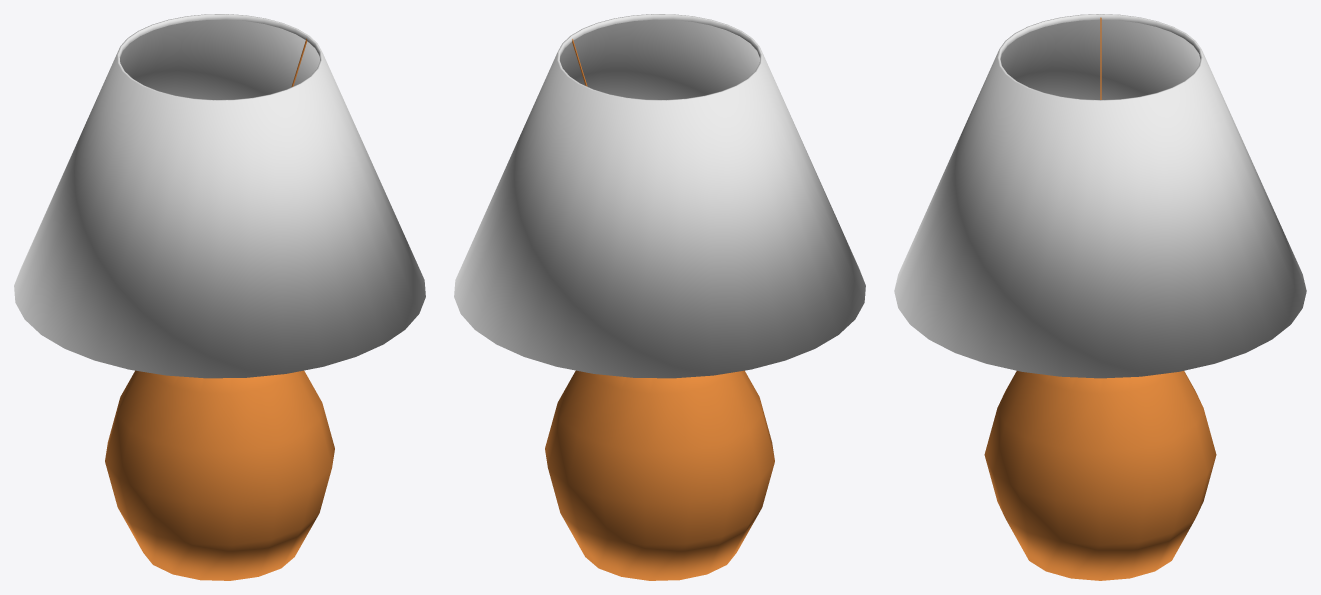
The model's file is Lamp.glb.
3 renders of one model, left to right at view 1: azimuth 30°, elevation 25°; view 2: azimuth 150°, elevation 25°; view 3: azimuth 270°, elevation 25°, orthographic.
Visible parts, largest first — view 1: Lamp_base; view 2: Lamp_base; view 3: Lamp_base.
Boxes of the visible parts, box(x1,y1,x2,y2) form: Lamp_base: box(14, 14, 425, 580); Lamp_base: box(454, 14, 865, 580); Lamp_base: box(894, 14, 1306, 580).
Bounding box in the file's own units: 0.32 × 0.42 × 0.32.
